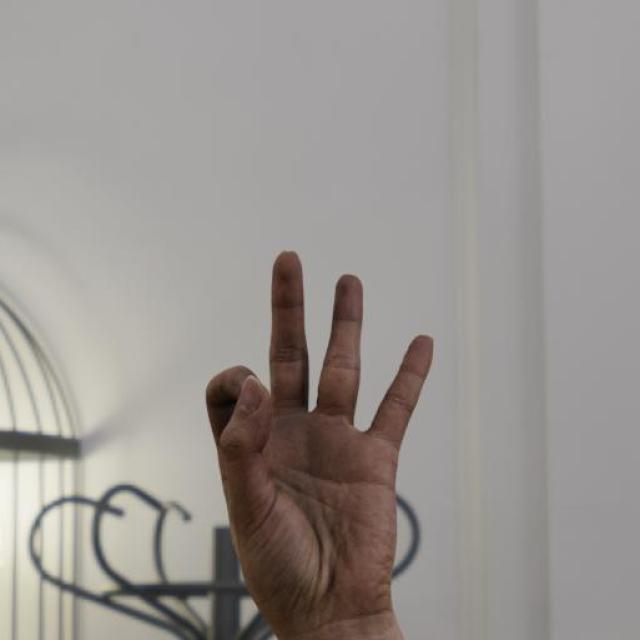F: (204, 245, 441, 620)
